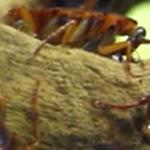cockroach: (6, 4, 148, 64)
